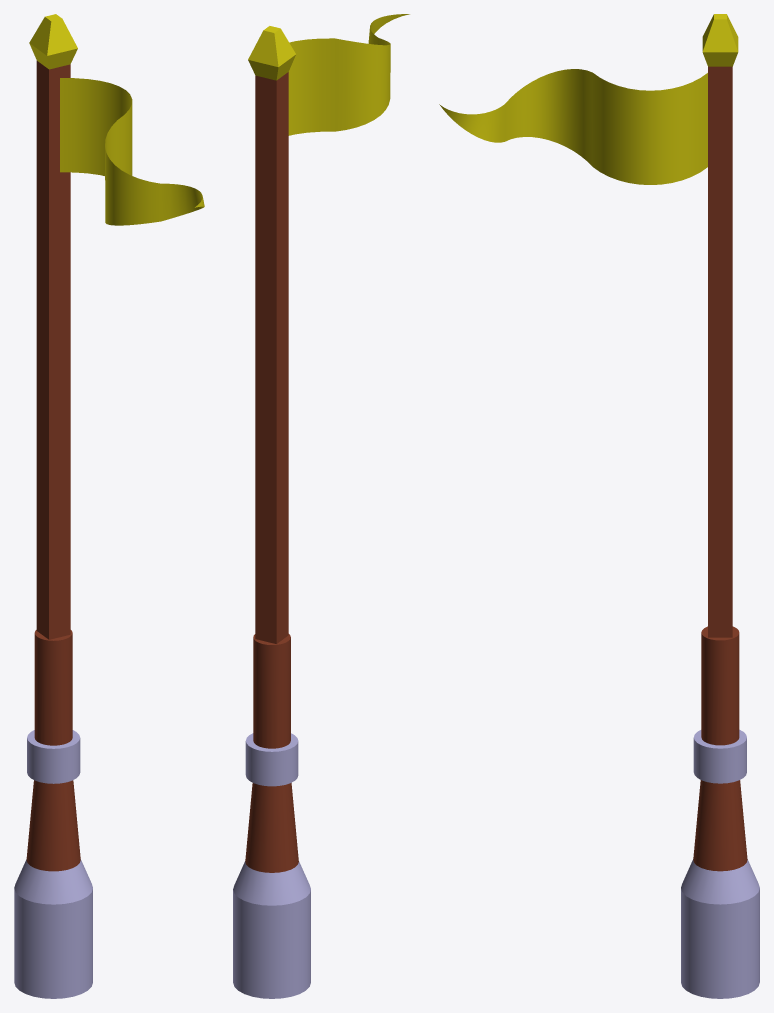
Rendered from FlagYellow.fbx.
3 views of the same model, side by side, from view 1: azimuth 30°, elevation 25°; view 2: azimuth 150°, elevation 25°; view 3: azimuth 270°, elevation 25° (orthographic).
Parts seen in each view (by area): view 1: mergedBlocks; view 2: mergedBlocks; view 3: mergedBlocks.
Boxes of the visible parts, box(x1,y1,x2,y2) form: mergedBlocks: box(14, 14, 204, 998); mergedBlocks: box(233, 14, 409, 998); mergedBlocks: box(439, 14, 759, 998).
Bounding box in the file's own units: 19.22 × 248 × 74.82.
